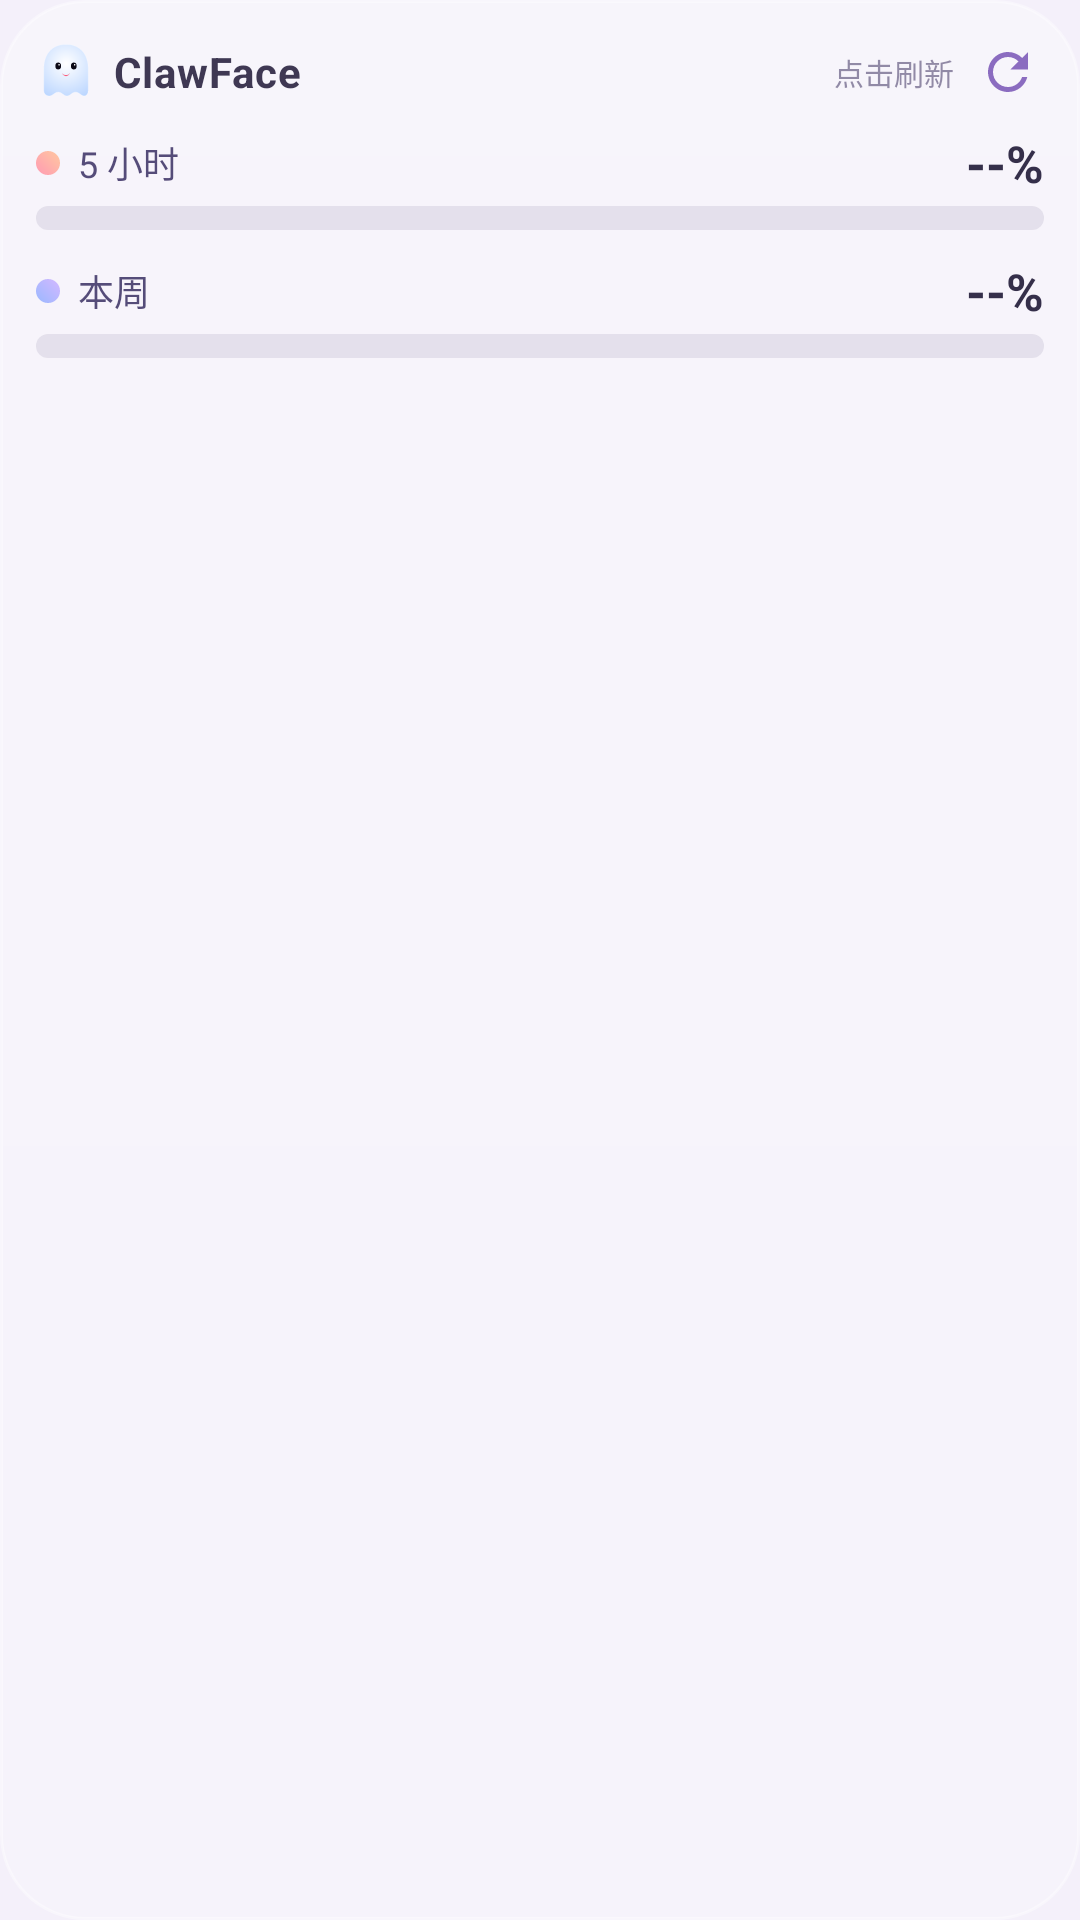

Point at icon controls on the screen. Image size 1080 × 1920, points as [x,y].
ghost: [66,70]
